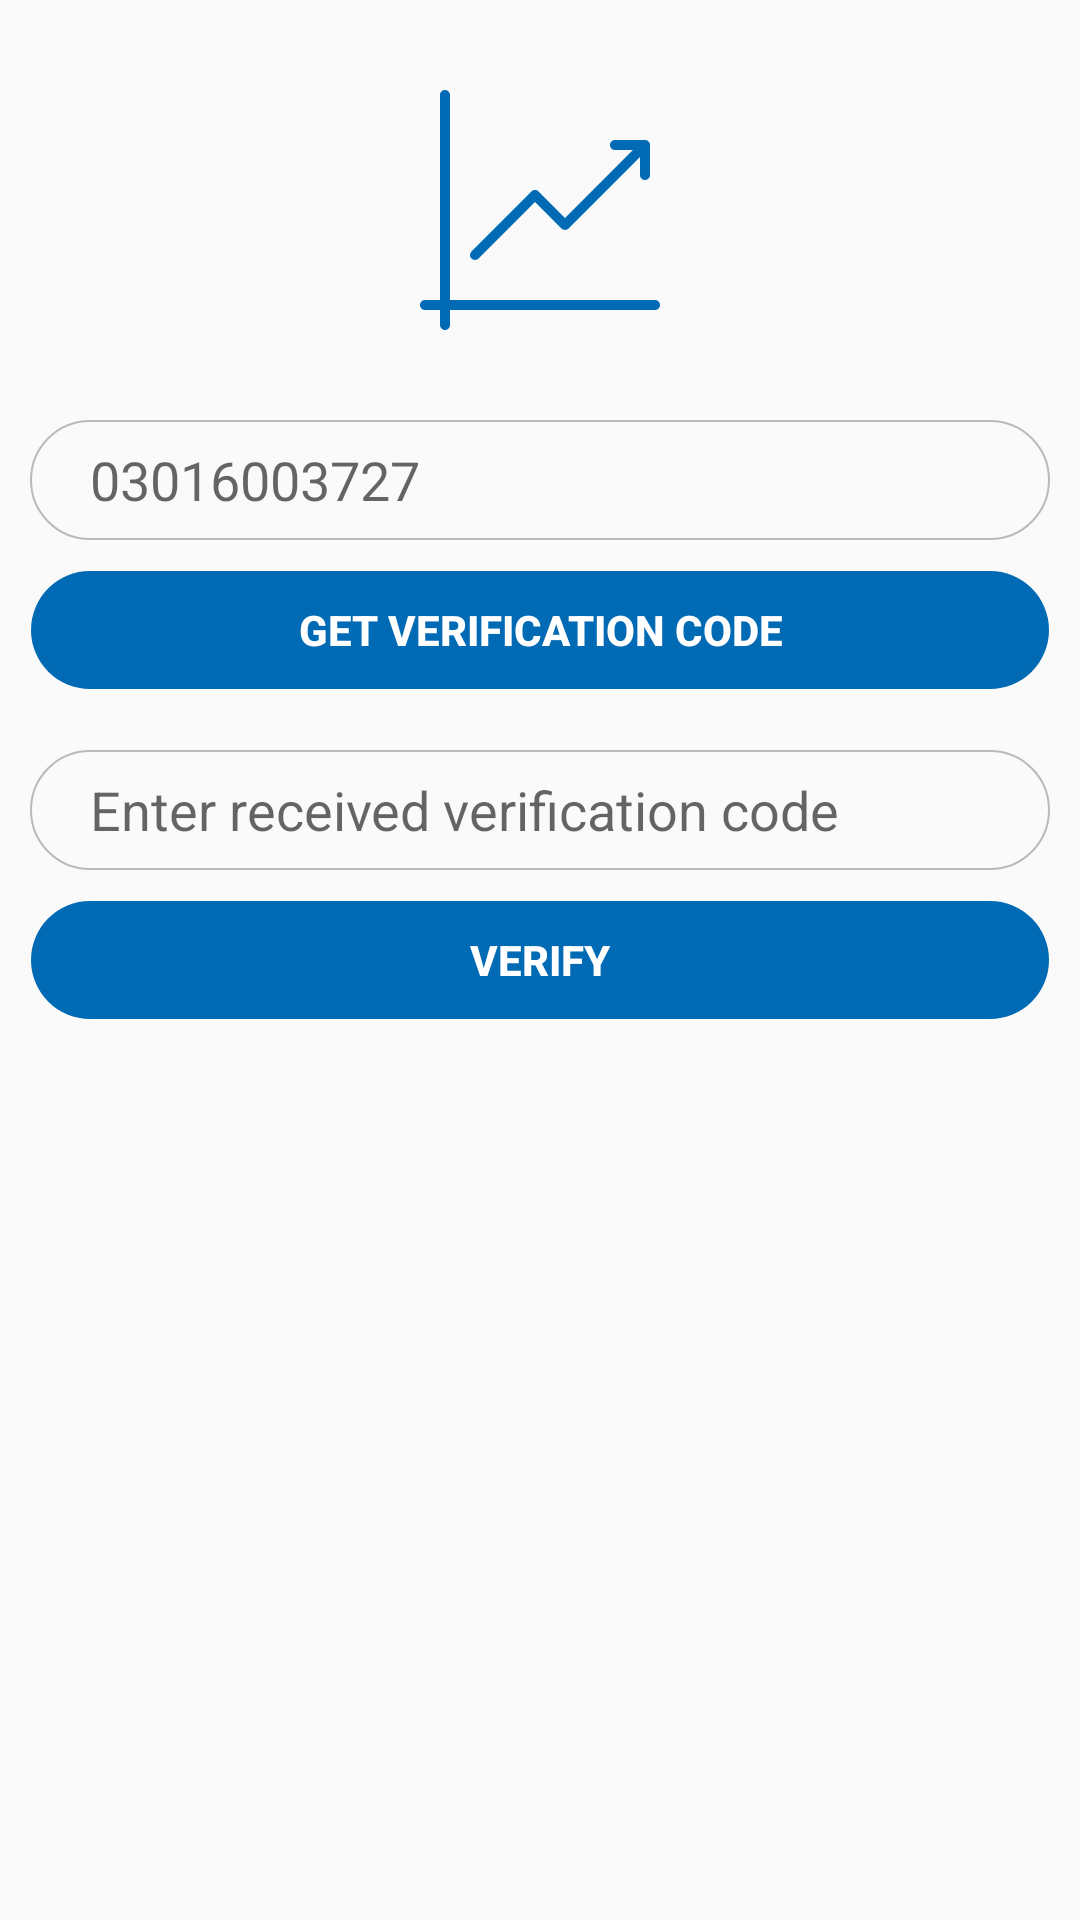

Icons on this 1080px x 1920px Android screen, each with the point to tap as (x=x, y=y):
arrow chart: (x=540, y=210)
